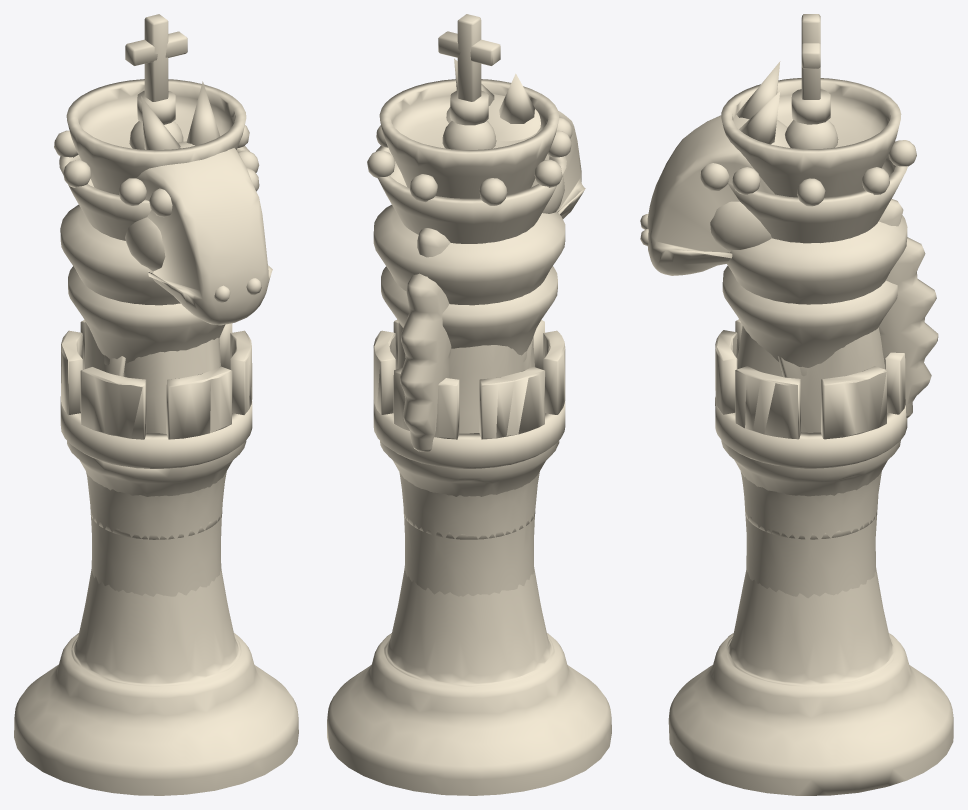
The model's file is pieces_lod.glb.
3 views of the same model, side by side, from view 1: azimuth 30°, elevation 25°; view 2: azimuth 150°, elevation 25°; view 3: azimuth 270°, elevation 25° (orthographic).
Parts seen in each view (by area): view 1: king, rook, knight, queen; view 2: king, rook, knight, queen; view 3: king, rook, knight, queen.
Boxes of the visible parts, bbox=[...] form: king: bbox=[14, 14, 298, 795]; rook: bbox=[60, 320, 252, 596]; knight: bbox=[67, 81, 272, 496]; queen: bbox=[54, 121, 259, 363]; king: bbox=[327, 14, 611, 795]; rook: bbox=[373, 319, 565, 596]; knight: bbox=[380, 58, 585, 496]; queen: bbox=[367, 121, 571, 355]; king: bbox=[668, 14, 953, 795]; rook: bbox=[715, 319, 907, 598]; knight: bbox=[640, 61, 938, 496]; queen: bbox=[722, 120, 916, 367].
Size of the model in its own units: 0.38 by 1.06 by 0.4178.
